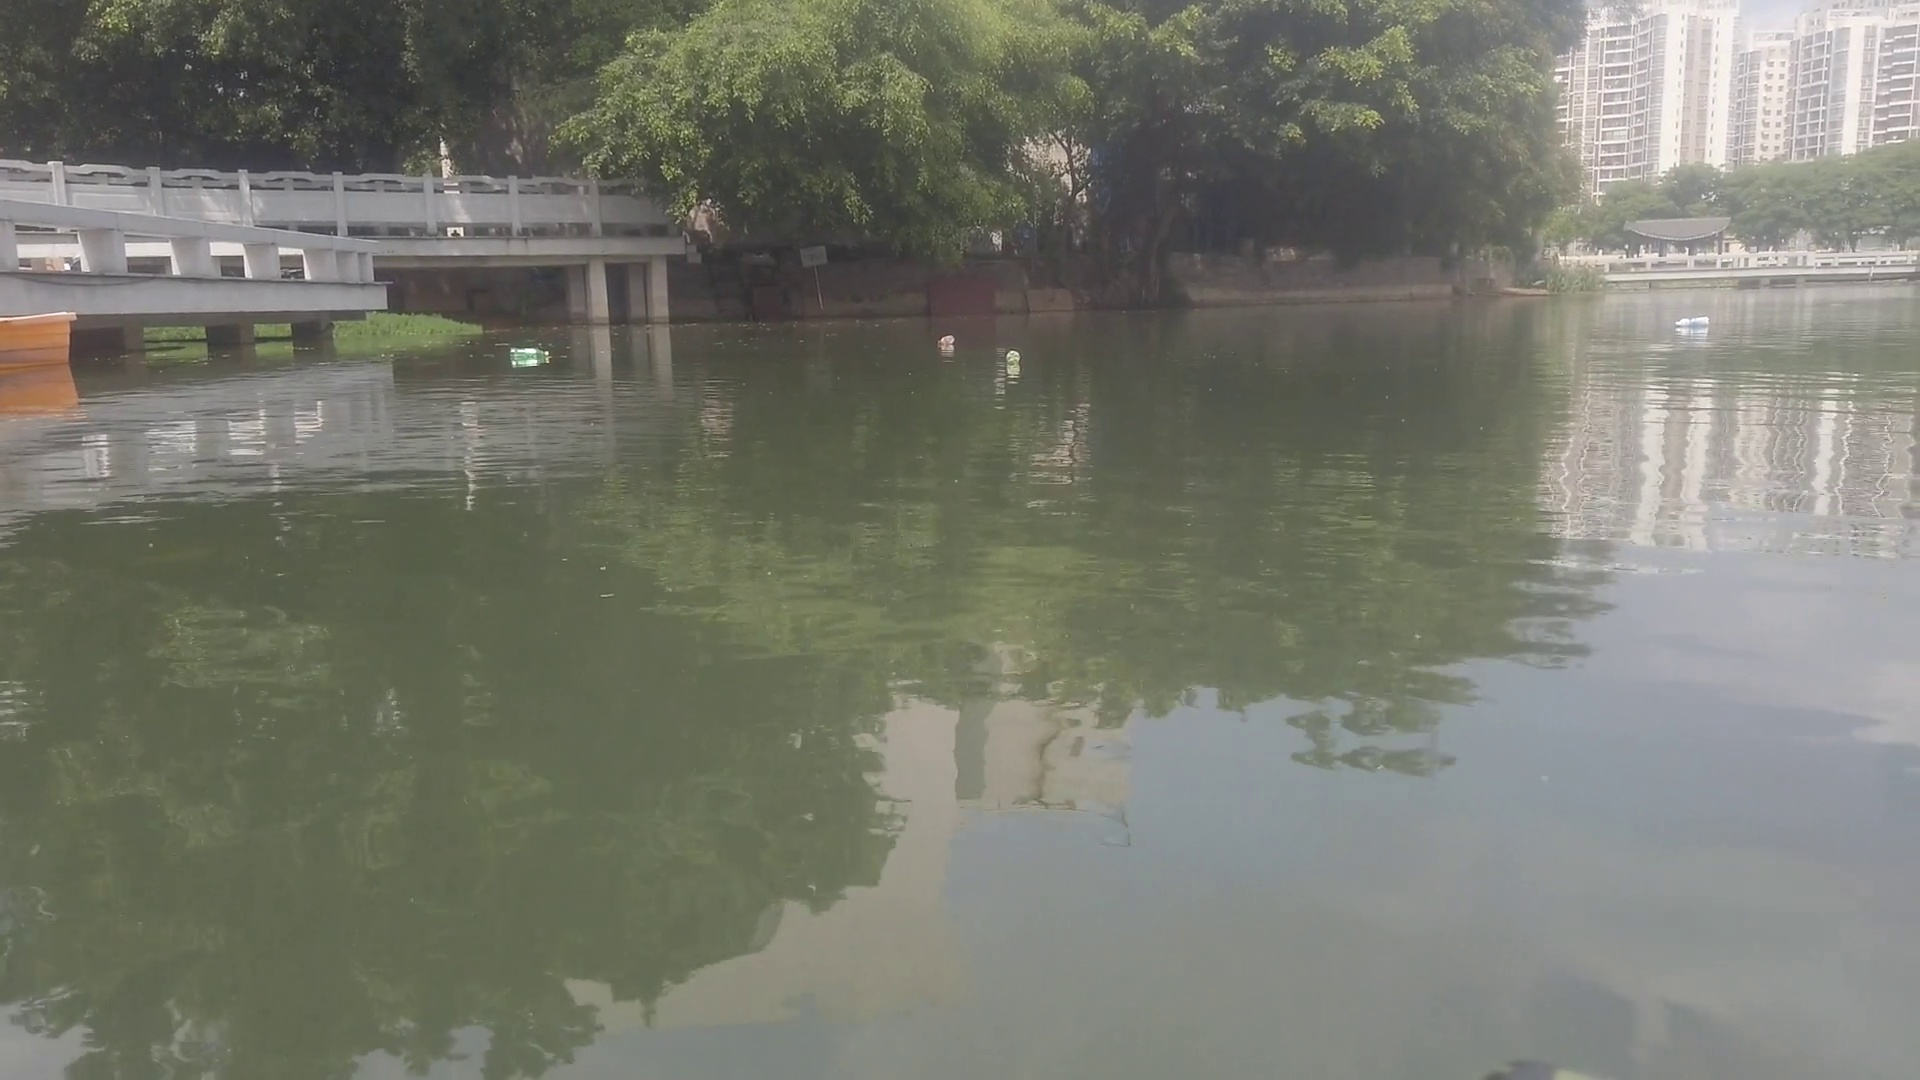bottle: (508, 344, 550, 361), (1669, 313, 1713, 328), (1000, 345, 1025, 367), (935, 332, 960, 348)
